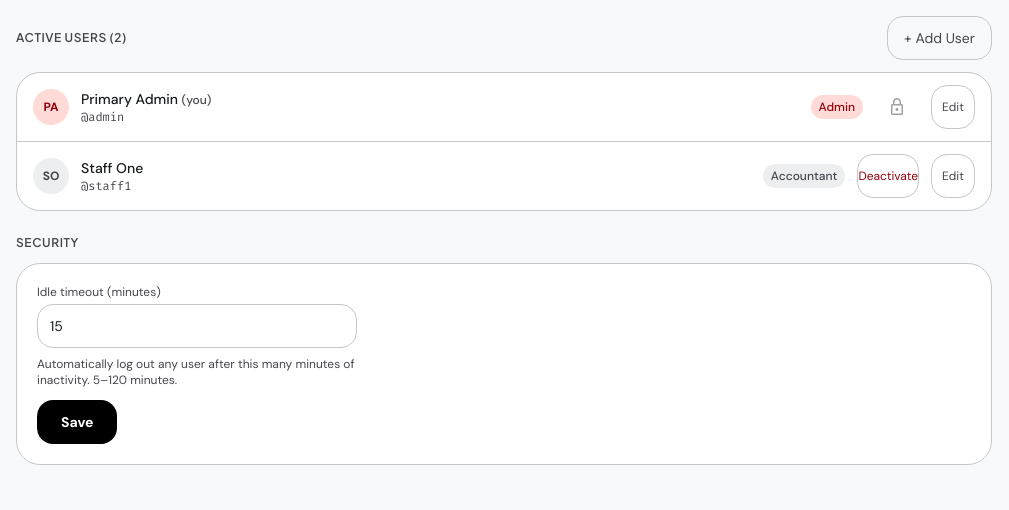
Test: Security card — idle timeout (moved from Appointment Settings) › surfaces the server error on a failed save instead of failing silently
Replace the text in the number field labelled "Idle timeout (minutes)" with "45" at (197, 326), box [37,304,357,348]
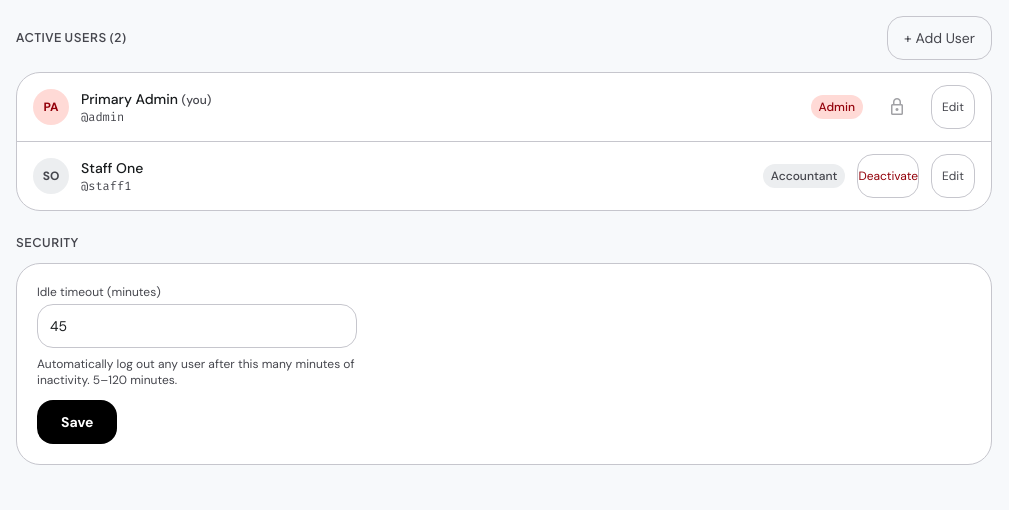
Click the button "Save" at (77, 422), box [37,400,118,444]
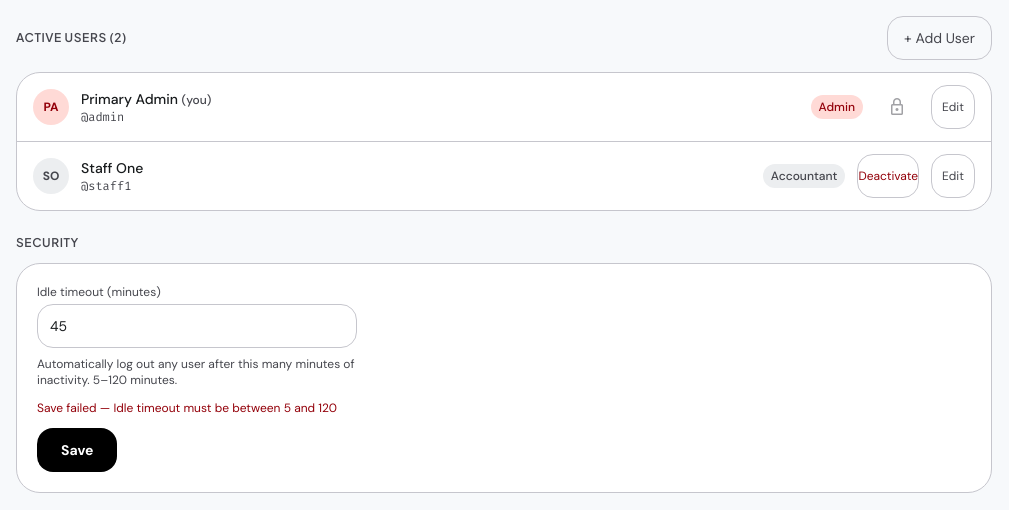
expect the text "Save failed — Idle timeout must be between 5 and 120" is shown: met, box [37,400,337,416]
